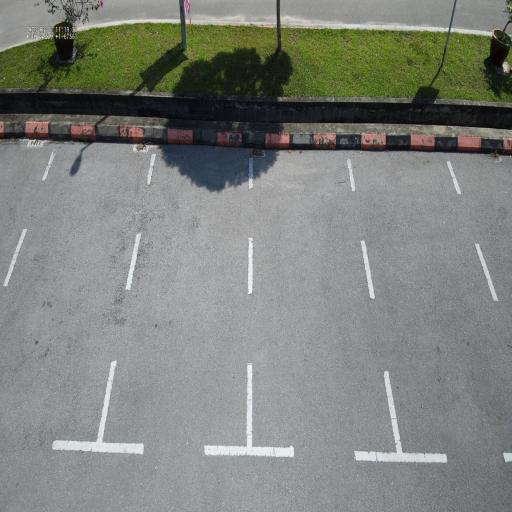Empty: (89, 146, 258, 464), (242, 148, 408, 462)
